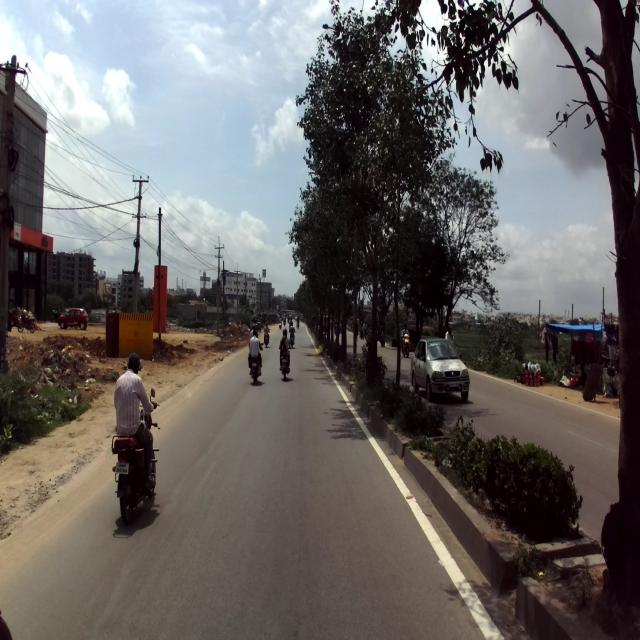car: (410, 335, 470, 400)
motorcycle: (111, 386, 159, 526)
